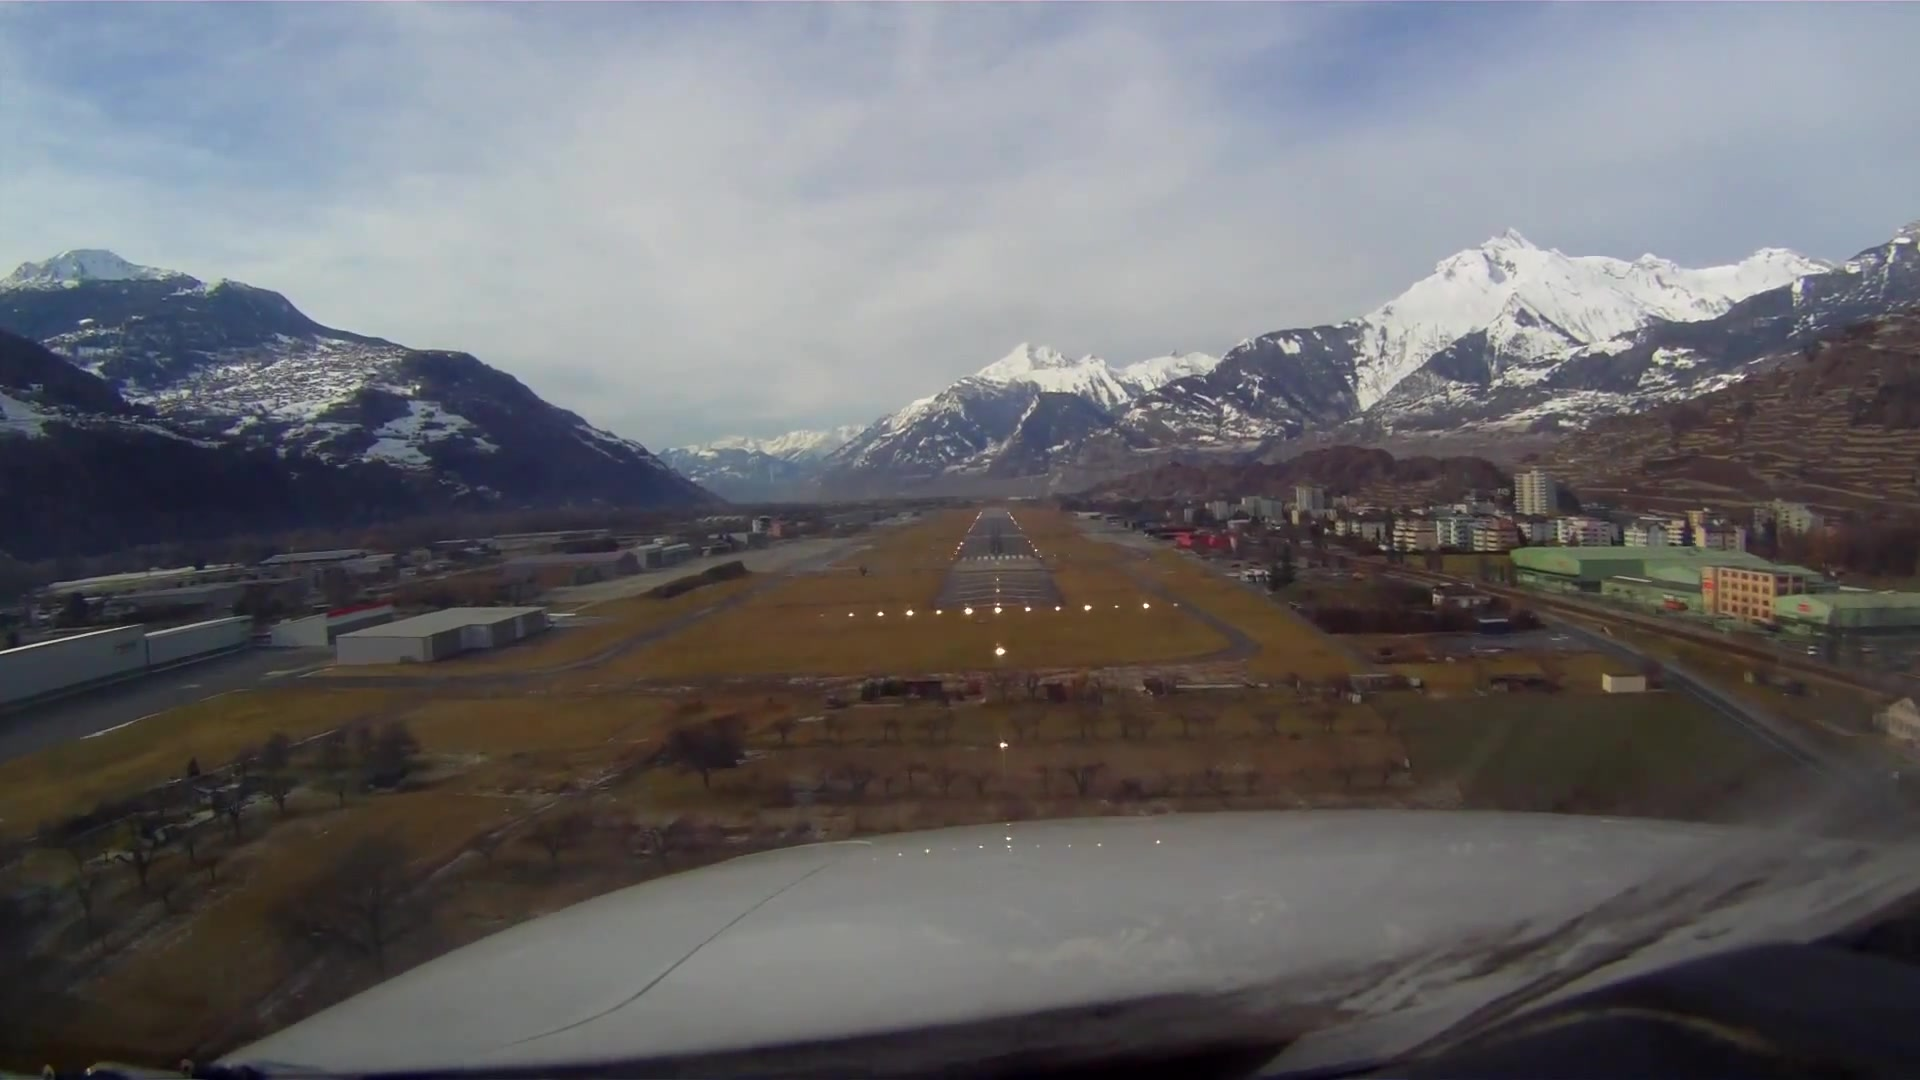runway: (947, 508, 1047, 572)
